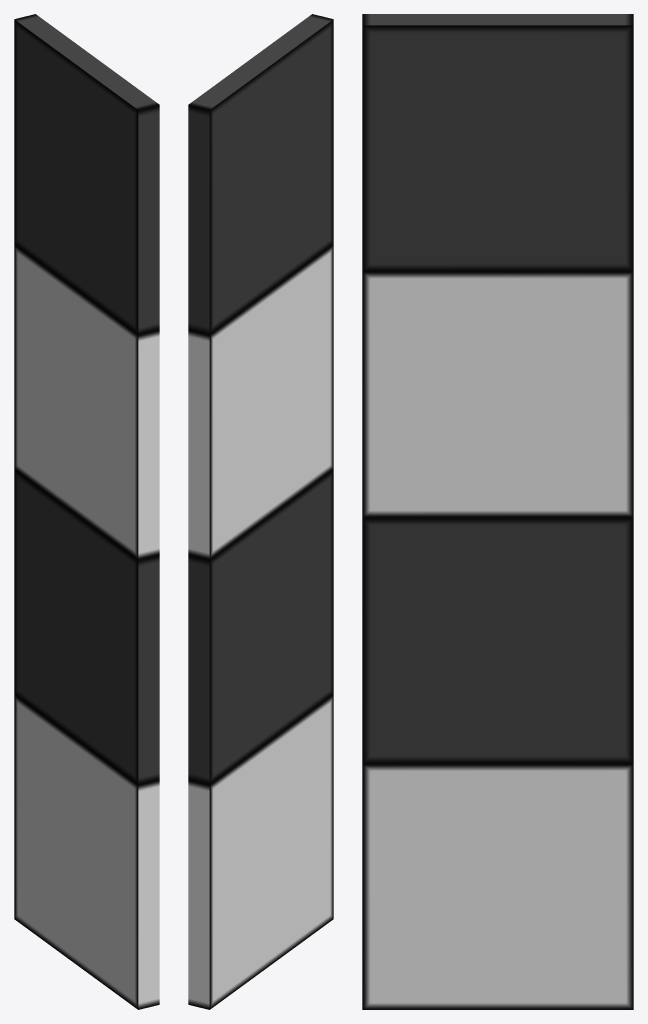
The model's file is SM_Modular_Wall_1x4_WhiteBase.fbx.
The picture shows the model from 3 angles, left to right: view 1: azimuth 30°, elevation 25°; view 2: azimuth 150°, elevation 25°; view 3: azimuth 270°, elevation 25°; orthographic projection. The views are drawn at different scales.
Parts seen in each view (by area): view 1: Modular_Wall_1x4_WhiteBase; view 2: Modular_Wall_1x4_WhiteBase; view 3: Modular_Wall_1x4_WhiteBase.
Part boxes in pixels (box(x1,y1,x2,y2)): Modular_Wall_1x4_WhiteBase: box(14, 14, 159, 1009); Modular_Wall_1x4_WhiteBase: box(188, 14, 333, 1009); Modular_Wall_1x4_WhiteBase: box(362, 14, 633, 1009).
Size of the model in its own units: 10 by 400 by 100.
